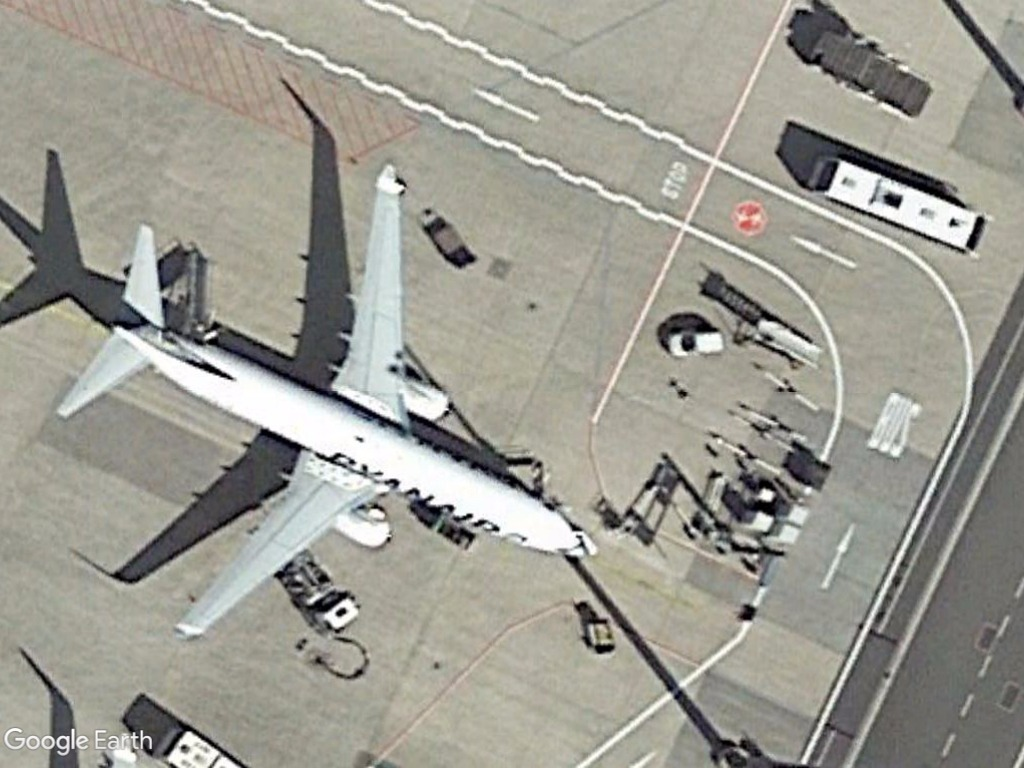airliner: (46, 148, 592, 657)
bus: (800, 138, 993, 268)
van: (662, 326, 728, 360)
